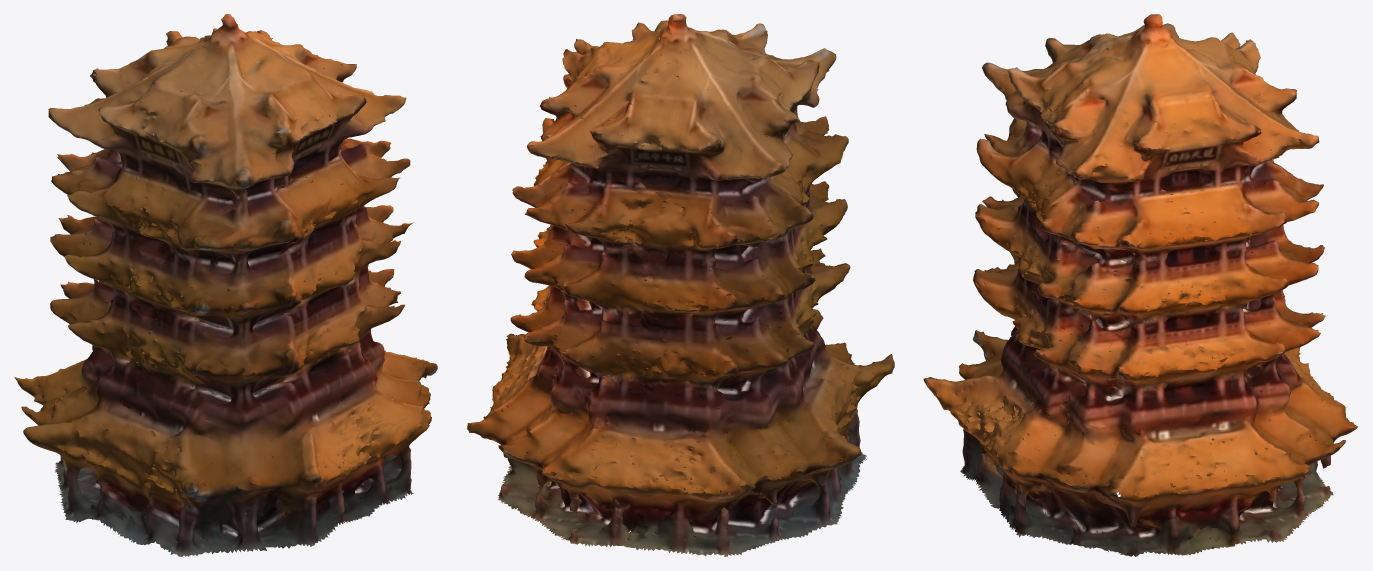
The model's file is huanghelou.glb.
The picture shows the model from 3 angles, left to right: view 1: azimuth 30°, elevation 25°; view 2: azimuth 150°, elevation 25°; view 3: azimuth 270°, elevation 25°; orthographic projection.
Parts seen in each view (by area): view 1: Object_2, Object_3, Object_4; view 2: Object_3, Object_2, Object_4; view 3: Object_3, Object_2.
Boxes of the visible parts, x1,y1,x2,y2 form: Object_2: (23,14,436,556); Object_3: (14,16,437,553); Object_4: (29,38,259,556); Object_3: (466,15,861,555); Object_2: (470,14,894,556); Object_4: (587,93,891,537); Object_3: (949,14,1357,556); Object_2: (923,14,1352,539).
Size of the model in its own units: 5.97 by 7.04 by 5.84.
1 material, 1 textured.
